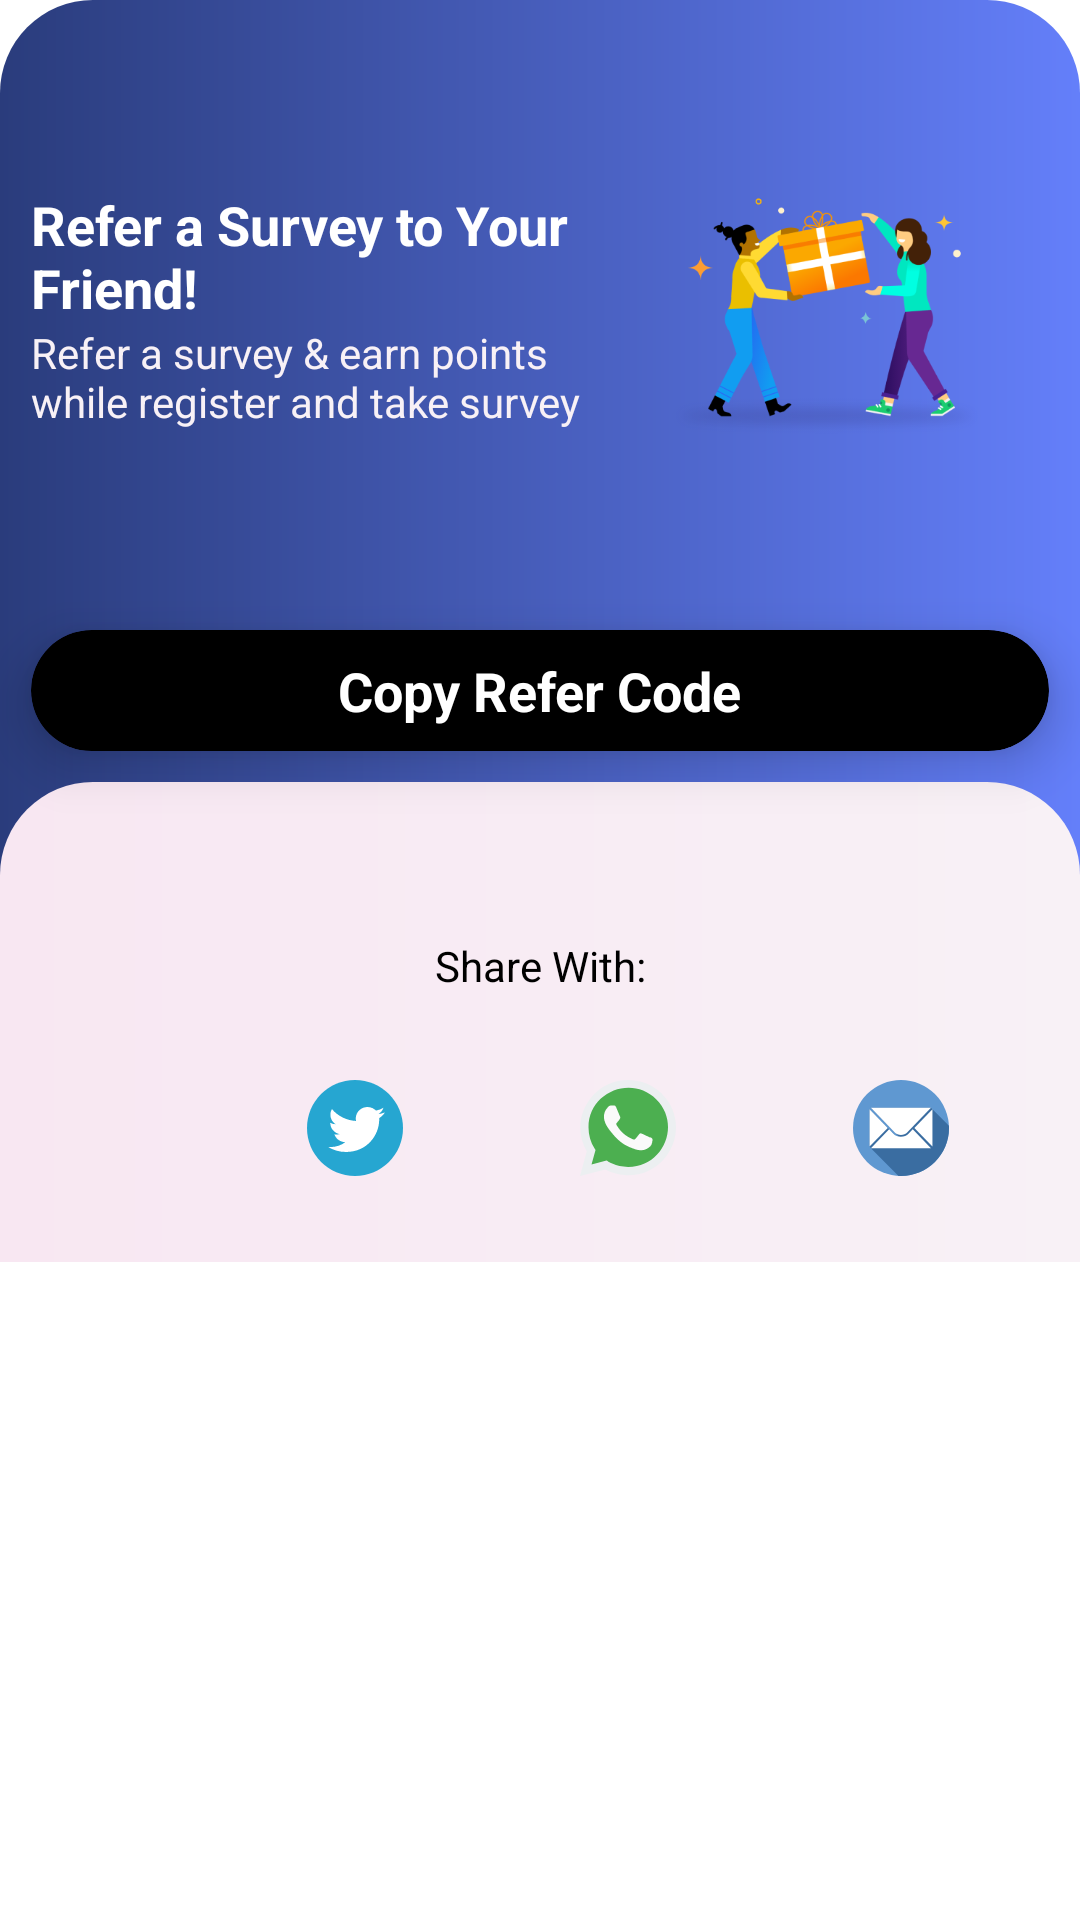

Point at icon controls on the screen. Image size 1080 × 1920, points as [x,y].
email refer: [901,1128]
